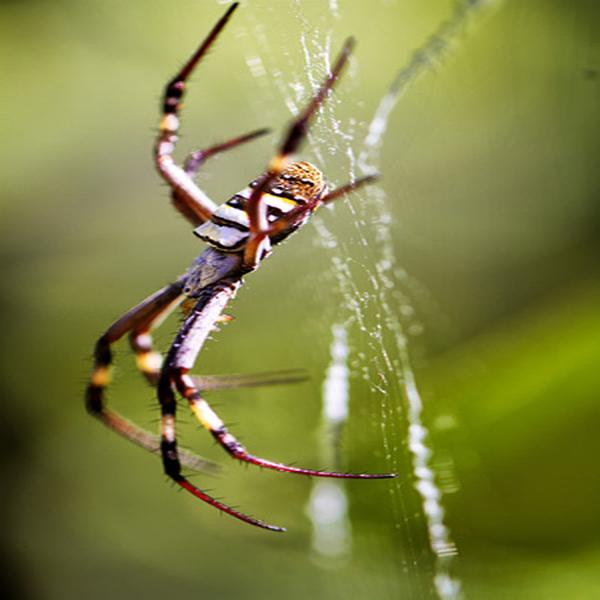St Andrew's Cross Spider: (91, 18, 393, 533)
